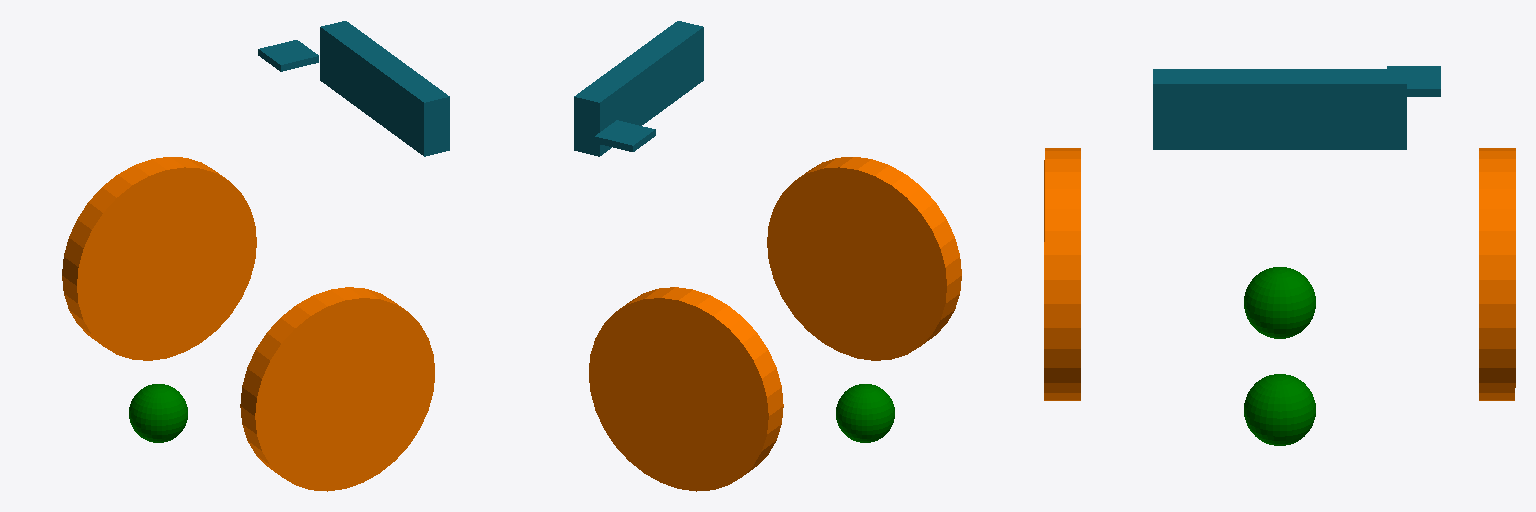
URDF robot description (boxbot):
<?xml version="1.0" ?>
<robot name="boxbot" xmlns:xacro="http://ros.org/wiki/xacro">

    <material name="orange"><color rgba="1 0.5 0 1"/></material>
    <material name="green_dark"><color rgba="0 0.5 0 1"/></material>
    <material name="bot_blue"><color rgba="0.088656 0.428691 0.491021 1"/></material>

    <link name="base_footprint"/>

    <link name="base_link">
        <visual>
            <geometry>
                <mesh filename="package://boxbot_description/meshes/cute_cube.dae" scale="0.1 0.1 0.1"/>
            </geometry>
        </visual>
        <collision>
            <origin xyz="0 0 0" rpy="0 0 0"/>
            <geometry>
                <box size="0.1 0.1 0.09"/>
            </geometry>
        </collision>
        <inertial>
            <mass value="2.0"/>
            <origin xyz="0.01 0 0" rpy="0 0 0"/>
            <inertia ixx="0.00227" ixy="0" ixz="0" iyy="0.00227" iyz="0" izz="0.00333"/>
        </inertial>
    </link>
    <joint name="base_link_joint" type="fixed">
        <origin xyz="0 0 0.06" rpy="0 0 0"/>
        <parent link="base_footprint" />
        <child link="base_link" />
    </joint>

    <link name="left_wheel_link">
        <visual>
            <origin xyz="0 0 0" rpy="1.5707 0 0"/>
            <geometry><cylinder length="0.01" radius="0.035"/></geometry>
            <material name="orange"/>
        </visual>
        <collision>
            <origin xyz="0 0 0" rpy="1.5707 0 0"/>
            <geometry><cylinder length="0.01" radius="0.035"/></geometry>
        </collision>
        <inertial>
            <origin xyz="0 0 0" rpy="1.5707 0 0"/>
            <mass value="0.2"/>
            <inertia ixx="0.000063" ixy="0" ixz="0" iyy="0.0001225" iyz="0" izz="0.000063"/>
        </inertial>
    </link>
    <joint name="left_wheel_joint" type="continuous">
        <origin xyz="0 0.06 -0.025" rpy="0 0 0" />
        <child link="left_wheel_link"/>
        <parent link="base_link"/>
        <axis xyz="0 1 0"/>
        <limit effort="10.0" velocity="10.0"/>
        <dynamics damping="1.0" friction="1.0"/>
    </joint>
    <gazebo reference="left_wheel_link">
        <mu1>10.0</mu1>
        <mu2>10.0</mu2>
        <kp>1000000.0</kp>
        <kd>100.0</kd>
        <minDepth>0.001</minDepth>
        <fdir1>1 0 0</fdir1>
        <maxVel>0.1</maxVel>
        <material>Gazebo/Green</material>
    </gazebo>

    <link name="right_wheel_link">
        <visual>
            <origin xyz="0 0 0" rpy="1.5707 0 0"/>
            <geometry><cylinder length="0.01" radius="0.035"/></geometry>
            <material name="orange"/>
        </visual>
        <collision>
            <origin xyz="0 0 0" rpy="1.5707 0 0"/>
            <geometry><cylinder length="0.01" radius="0.035"/></geometry>
        </collision>
        <inertial>
            <origin xyz="0 0 0" rpy="1.5707 0 0"/>
            <mass value="0.2"/>
            <inertia ixx="0.000063" ixy="0" ixz="0" iyy="0.0001225" iyz="0" izz="0.000063"/>
        </inertial>
    </link>
    <joint name="right_wheel_joint" type="continuous">
        <origin xyz="0 -0.06 -0.025" rpy="0 0 0" />
        <child link="right_wheel_link"/>
        <parent link="base_link"/>
        <axis xyz="0 1 0"/>
        <limit effort="10.0" velocity="10.0"/>
        <dynamics damping="1.0" friction="1.0"/>
    </joint>
    <gazebo reference="right_wheel_link">
        <mu1>10.0</mu1>
        <mu2>10.0</mu2>
        <kp>1000000.0</kp>
        <kd>100.0</kd>
        <minDepth>0.001</minDepth>
        <fdir1>1 0 0</fdir1>
        <maxVel>0.1</maxVel>
        <material>Gazebo/Orange</material>
    </gazebo>

    <link name="front_caster_link">
        <visual>
            <geometry><sphere radius="0.01"/></geometry>
            <material name="green_dark"/>
        </visual>
        <collision>
            <geometry><sphere radius="0.01"/></geometry>
        </collision>
        <inertial>
            <mass value="0.1"/>
            <inertia ixx="0.000004" ixy="0" ixz="0" iyy="0.000004" iyz="0" izz="0.000004"/>
        </inertial>
    </link>
    <joint name="front_caster_joint" type="fixed">
        <origin xyz="0.035 0 -0.05" rpy="0 0 0"/>
        <parent link="base_link"/>
        <child link="front_caster_link"/>
    </joint>
    <gazebo reference="front_caster_link">
        <mu1>0.0</mu1>
        <mu2>0.0</mu2>
        <slip1>1.0</slip1>
        <slip2>1.0</slip2>
        <kp>2000000.0</kp>
        <kd>100.0</kd>
        <minDepth>0.001</minDepth>
        <material>Gazebo/Purple</material>
    </gazebo>

    <link name="rear_caster_link">
        <visual>
            <geometry><sphere radius="0.01"/></geometry>
            <material name="green_dark"/>
        </visual>
        <collision>
            <geometry><sphere radius="0.01"/></geometry>
        </collision>
        <inertial>
            <mass value="0.1"/>
            <inertia ixx="0.000004" ixy="0" ixz="0" iyy="0.000004" iyz="0" izz="0.000004"/>
        </inertial>
    </link>
    <joint name="rear_caster_joint" type="fixed">
        <origin xyz="-0.035 0 -0.05" rpy="0 0 0"/>
        <parent link="base_link"/>
        <child link="rear_caster_link"/>
    </joint>
    <gazebo reference="rear_caster_link">
        <mu1>0.0</mu1>
        <mu2>0.0</mu2>
        <slip1>1.0</slip1>
        <slip2>1.0</slip2>
        <kp>2000000.0</kp>
        <kd>100.0</kd>
        <minDepth>0.001</minDepth>
        <material>Gazebo/Purple</material>
    </gazebo>

    <!-- <link name="camera_link">
        <visual>
            <origin xyz="0 0 0" rpy="0 0 0" />
            <geometry>
                <mesh filename="package://boxbot_description/meshes/sensors/realsense.dae" scale="1.0 1.0 1.0"/>
            </geometry>
        </visual>
        <collision>
            <origin xyz="-0.02 0 -0.015" rpy="0 0 0"/>
            <geometry><box size="0.025 0.09 0.025"/></geometry>
        </collision>
        <inertial>
            <mass value="0.075"/>
            <origin xyz="0 0 0" rpy="0 0 0"/>
            <inertia ixx="5.46e-05" ixy="0" ixz="0" iyy="7.81e-06" iyz="0" izz="5.46e-05"/>
        </inertial>
        <joint name="camera_link_joint" type="fixed">
            <origin xyz="0.08 0 0.06" rpy="0 0 0"/>
            <parent link="base_link"/>
            <child link="camera_link"/>
        </joint>
    </link> -->

    <link name="camera_link">
        <visual>
            <origin xyz="0 0 0" rpy="0 0 0" />
            <geometry><box size="0.01 0.07 0.02"/></geometry>
            <material name="bot_blue"/>
        </visual>
        <collision>
            <origin xyz="0.0 0.0 0.0" rpy="0 0 0"/>
            <geometry><box size="0.01 0.07 0.02"/></geometry>
        </collision>
        <inertial>
            <mass value="0.075"/>
            <origin xyz="0.0 0.0 0.0" rpy="0 0 0"/>
            <inertia ixx="3.1249999999999997e-06" ixy="0" ixz="0"
                    iyy="3.3125000000000006e-05" iyz="0"
                    izz="3.125e-05"/>
        </inertial>
    </link>
    <joint name="camera_link_joint" type="fixed">
        <origin xyz="0.053 0 0.05" rpy="0 0 0"/>
        <parent link="base_link"/>
        <child link="camera_link"/>
    </joint>


    <link name="camera_depth_optical_frame"/>
    <joint name="camera_optical_joint" type="fixed">
        <origin xyz="0 0 0" rpy="-1.57079632679 0 -1.57079632679"/>
        <parent link="camera_link"/>
        <child link="camera_depth_optical_frame"/>
    </joint>

    <link name="laser_scan_link">
        <visual>
            <origin xyz="0 0 0" rpy="0 0 0" />
            <geometry><mesh filename="package://boxbot_description/meshes/sensors/rplidar.dae" scale="1.0 1.0 1.0"/></geometry>
        </visual>
        <collision>
            <origin xyz="0 0 0.0204" rpy="0 0 0"/>
            <geometry><cylinder length="0.0408" radius="0.0375"/></geometry>
        </collision>
        <inertial>
            <mass value="0.01"/>
            <origin xyz="0 0 0.0204" rpy="0 0 0"/>
            <inertia ixx="6.06e-06" ixy="0" ixz="0" iyy="6.07e-06" iyz="0" izz="9.36e-06"/>
        </inertial>
    </link>
    <joint name="laser_scan_link_joint" type="fixed">
        <origin rpy="0 0 0" xyz="0 0 0.05"/>
        <parent link="base_link"/>
        <child link="laser_scan_link"/>
    </joint>

    <link name="imu_link">
        <visual>
            <origin xyz="0 0 0" rpy="0 0 0"/>
            <geometry><box size="0.015 0.015 0.0025"/></geometry>
            <material name="bot_blue"/>
        </visual>
    </link>
    <joint name="imu_joint" type="fixed">
        <origin xyz="0.037 0.037 0.051" rpy="0 0 0"/>
        <parent link="base_link"/>
        <child link="imu_link"/>
    </joint>
    

    <gazebo>
        <plugin name="joint_state_publisher" filename="libgazebo_ros_joint_state_publisher.so">
            <ros>
                <remapping>~/out:=joint_states</remapping>
            </ros>
            <update_rate>50</update_rate>
            <joint_name>left_wheel_joint</joint_name>
            <joint_name>right_wheel_joint</joint_name>
        </plugin>
    </gazebo>

    <gazebo>
        <plugin name="differential_drive_controller" filename="libgazebo_ros_diff_drive.so">
            <ros>
                <namespace>/</namespace>
                <remapping>cmd_vel:=cmd_vel</remapping>
                <remapping>odom:=odom</remapping>
            </ros>
            <update_rate>50</update_rate>
            <!-- <num_wheel_pairs>1</num_wheel_pairs> -->

            <left_joint>left_wheel_joint</left_joint>
            <right_joint>right_wheel_joint</right_joint>

            <wheel_separation>0.12</wheel_separation>
            <wheel_diameter>0.07</wheel_diameter>

            <max_wheel_torque>100</max_wheel_torque>
            <max_wheel_acceleration>0.7</max_wheel_acceleration>

            <publish_odom>true</publish_odom>

            <!-- using EKF = false -->
            <publish_odom_tf>false</publish_odom_tf>

            <publish_wheel_tf>false</publish_wheel_tf>
            <odometry_frame>odom</odometry_frame>
            <robot_base_frame>base_footprint</robot_base_frame>

            <covariance_x>0.05</covariance_x>
            <covariance_y>0.05</covariance_y>
            <covariance_yaw>0.1</covariance_yaw>

        </plugin>
    </gazebo>

    <gazebo reference="camera_link">
        <material>Gazebo/Red</material>
        <sensor name="camera" type="depth">
            <always_on>true</always_on>
            <visualize>true</visualize>
            <update_rate>15.0</update_rate>
            <camera name="d435i">
                <horizontal_fov>1.5184</horizontal_fov>
                <image>
                    <width>640</width>
                    <height>480</height>
                    <format>R8G8B8</format>
                </image>
                <clip>
                    <near>0.01</near>
                    <far>10.0</far>
                </clip>
                <!-- <lens>
                    <type>custom</type>
                    <custom_function>
                        <c1>1.05</c1>
                        <c2>4</c2>
                        <f>1.0</f>
                        <fun>tan</fun>
                    </custom_function>
                    <scale_to_hfov>true</scale_to_hfov>
                    <cutoff_angle>3.1415</cutoff_angle>
                    <env_texture_size>512</env_texture_size>
                </lens> -->
            </camera>
            <plugin name="camera_controller" filename="libgazebo_ros_camera.so">
                <ros>
                    <namespace>camera</namespace>
                    <remapping>d435i/image_raw:=color/image_raw</remapping>
                    <remapping>d435i/camera_info:=color/camera_info</remapping>
                    <remapping>d435i/depth/image_raw:=depth/image_rect_raw</remapping>
                    <remapping>d435i/depth/camera_info:=depth/camera_info</remapping>
                    <remapping>d435i/points:=depth/color/points</remapping>
                </ros>
                <camera_name>d435i</camera_name>
                <frame_name>camera_depth_optical_frame</frame_name>
                <hack_baseline>0.05</hack_baseline>
                <min_depth>0.01</min_depth>
                <max_depth>10.0</max_depth>
            </plugin>
        </sensor>
    </gazebo>

    <gazebo reference="laser_scan_link">
        <sensor name="lidar_sensor" type="ray">
            <always_on>true</always_on>
            <visualize>false</visualize>
            <update_rate>10</update_rate>
            <ray>
                <scan>
                    <horizontal>
                        <samples>360</samples>
                        <resolution>1.0</resolution>
                        <min_angle>-3.14159</min_angle>
                        <max_angle>3.14159</max_angle>
                    </horizontal>
                </scan>
                <range>
                    <min>0.12</min>
                    <max>8.0</max>
                    <resolution>0.01</resolution>
                </range>
                <noise>
                    <type>gaussian</type>
                    <mean>0.0</mean>
                    <stddev>0.01</stddev>
                </noise>
            </ray>
            <plugin name="scan_controller" filename="libgazebo_ros_ray_sensor.so">
                <ros>
                    <remapping>~/out:=scan</remapping>
                    <use_sim_time>true</use_sim_time> 
                </ros>
                <output_type>sensor_msgs/LaserScan</output_type>
                <frame_name>laser_scan_link</frame_name>
            </plugin>
        </sensor>
    </gazebo>

    <gazebo reference="imu_link">
        <material>Gazebo/Red</material>
        <sensor name="br_imu" type="imu">
            <always_on>true</always_on>
            <update_rate>100</update_rate>
            <imu>
                <angular_velocity>
                    <x><noise type="gaussian"><mean>0.0</mean><stddev>2e-4</stddev></noise></x>
                    <y><noise type="gaussian"><mean>0.0</mean><stddev>2e-4</stddev></noise></y>
                    <z><noise type="gaussian"><mean>0.0</mean><stddev>2e-4</stddev></noise></z>
                </angular_velocity>
                <linear_acceleration>
                    <x><noise type="gaussian"><mean>0.0</mean><stddev>1.7e-2</stddev></noise></x>
                    <y><noise type="gaussian"><mean>0.0</mean><stddev>1.7e-2</stddev></noise></y>
                    <z><noise type="gaussian"><mean>0.0</mean><stddev>1.7e-2</stddev></noise></z>
                </linear_acceleration>
            </imu>
            <plugin name="bytes_imu" filename="libgazebo_ros_imu_sensor.so">
                <ros>
                    <namespace>imu</namespace>
                    <remapping>~/out:=data</remapping>
                </ros>
                <initial_orientation_as_reference>false</initial_orientation_as_reference>
                <gaussianNoise>0.01</gaussianNoise>
            </plugin>
        </sensor>
    </gazebo>

</robot>

--- What the picture shows (computed from the rendered views, not written in the file) ---
3 views of the same robot in one strip: view 1: azimuth 30°, elevation 25°; view 2: azimuth 150°, elevation 25°; view 3: azimuth 270°, elevation 25° (orthographic).
Robot: boxbot — 10 links, 9 joints (2 continuous, 7 fixed); root link base_footprint; default pose: all joints at 0.
Links seen in each view (by area): view 1: right_wheel_link, left_wheel_link, camera_link, rear_caster_link, imu_link; view 2: left_wheel_link, right_wheel_link, camera_link, rear_caster_link, imu_link; view 3: camera_link, right_wheel_link, left_wheel_link, front_caster_link, rear_caster_link, imu_link.
Boxes of the visible links, left/top/right/bottom form: right_wheel_link: left=240, top=287, right=434, bottom=491; left_wheel_link: left=62, top=157, right=256, bottom=360; camera_link: left=320, top=21, right=449, bottom=156; rear_caster_link: left=129, top=384, right=187, bottom=442; imu_link: left=258, top=40, right=318, bottom=71; left_wheel_link: left=589, top=287, right=783, bottom=491; right_wheel_link: left=767, top=157, right=961, bottom=360; camera_link: left=574, top=21, right=703, bottom=156; rear_caster_link: left=836, top=384, right=894, bottom=442; imu_link: left=595, top=120, right=655, bottom=151; camera_link: left=1153, top=69, right=1406, bottom=149; right_wheel_link: left=1044, top=148, right=1080, bottom=400; left_wheel_link: left=1479, top=148, right=1515, bottom=400; front_caster_link: left=1244, top=374, right=1315, bottom=445; rear_caster_link: left=1244, top=267, right=1315, bottom=338; imu_link: left=1387, top=66, right=1440, bottom=96.
Size in the robot's own frame: 0.103 by 0.13 by 0.12 metres.
0 mesh visuals loaded from 2 distinct referenced files (none loaded); not drawn: 2 (file found but could not be loaded).
